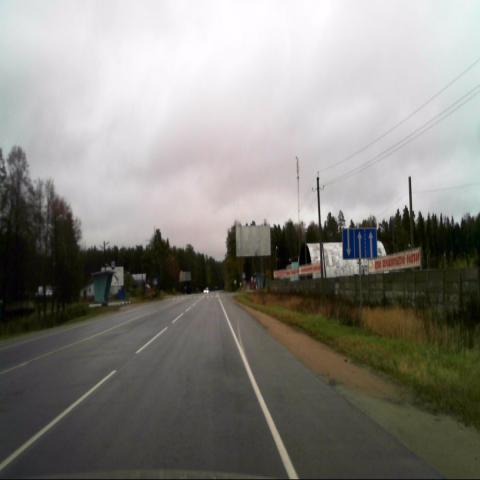5_15_7: (342, 227, 378, 260)
